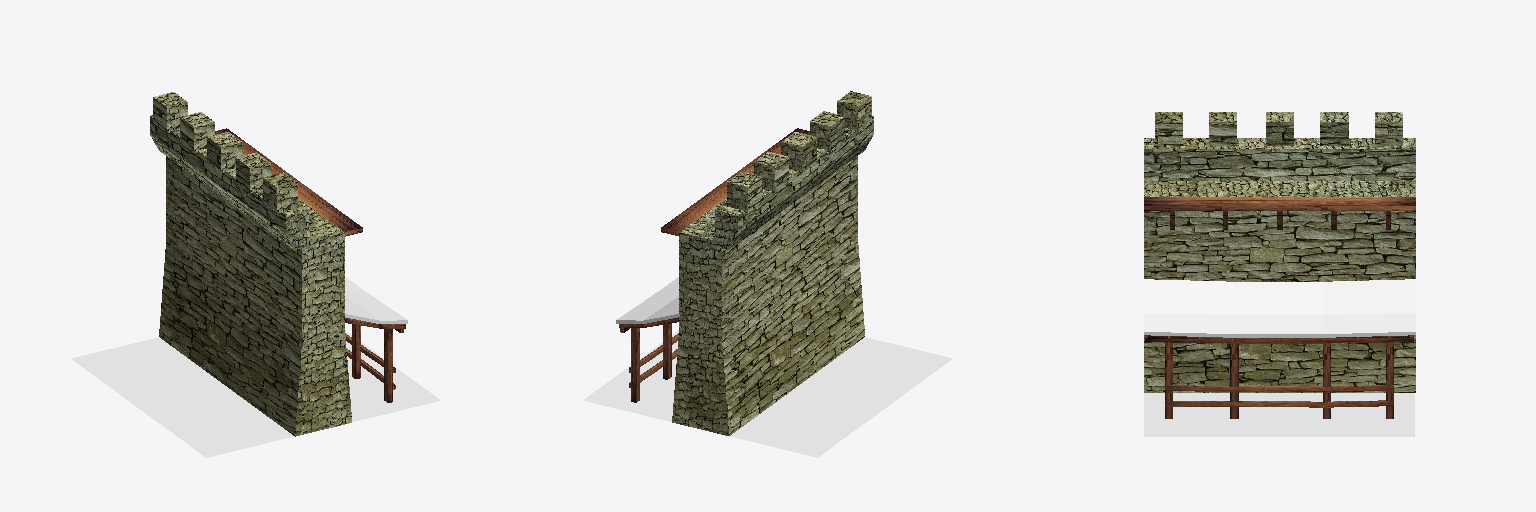
3 renders of one model, left to right at view 1: azimuth 30°, elevation 25°; view 2: azimuth 150°, elevation 25°; view 3: azimuth 270°, elevation 25°, orthographic.
Visible parts, largest first — view 1: limestone, grass, floor, roof; view 2: limestone, grass, floor, roof; view 3: limestone, roof, floor, grass.
Part boxes in pixels (x1,y1,x2,y2): limestone: (150, 92, 351, 436); grass: (72, 330, 440, 457); floor: (215, 128, 405, 402); roof: (345, 277, 407, 323); limestone: (672, 91, 873, 435); grass: (583, 330, 952, 457); floor: (619, 128, 809, 402); roof: (616, 277, 679, 323); limestone: (1144, 112, 1415, 392); roof: (1144, 279, 1415, 337); floor: (1144, 197, 1415, 418); grass: (1144, 393, 1414, 436).
Size of the model in its own units: 76 by 76.74 by 76.42.
4 materials, 2 textured.